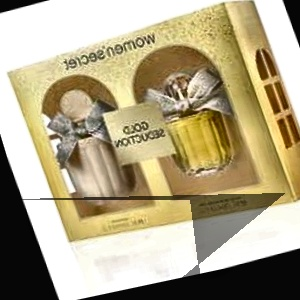women_secret: (115, 0, 203, 62)
